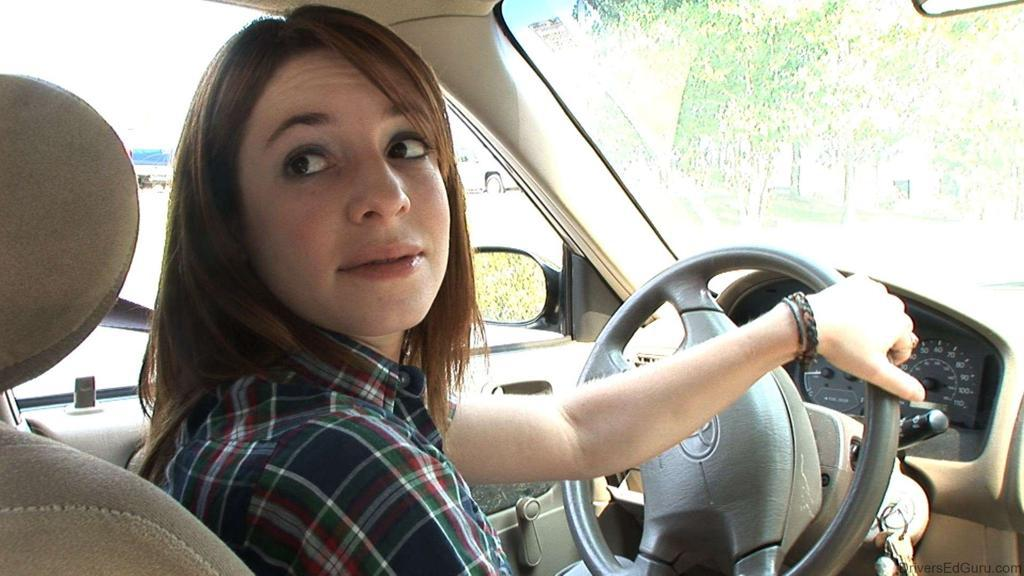face: (243, 51, 453, 331)
